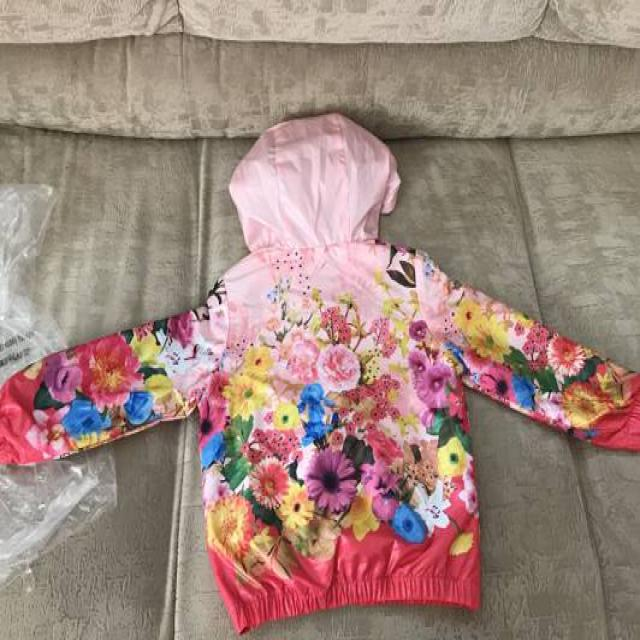Clothes -Biodegradable-: (0, 113, 640, 635)
